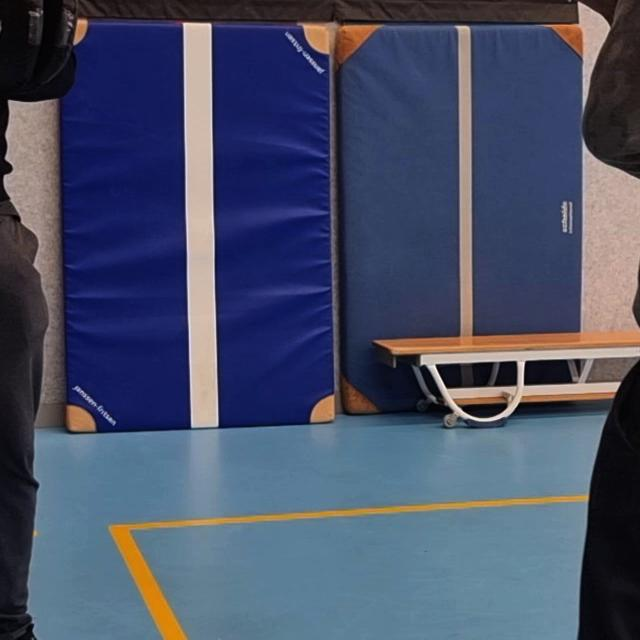paddle: (0, 0, 79, 91)
